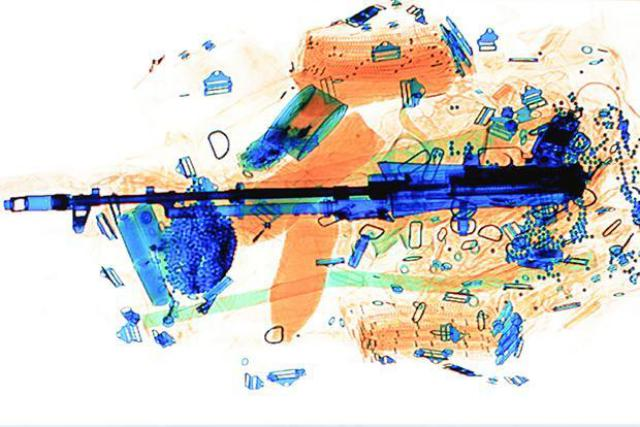Gun: (0, 108, 587, 235)
